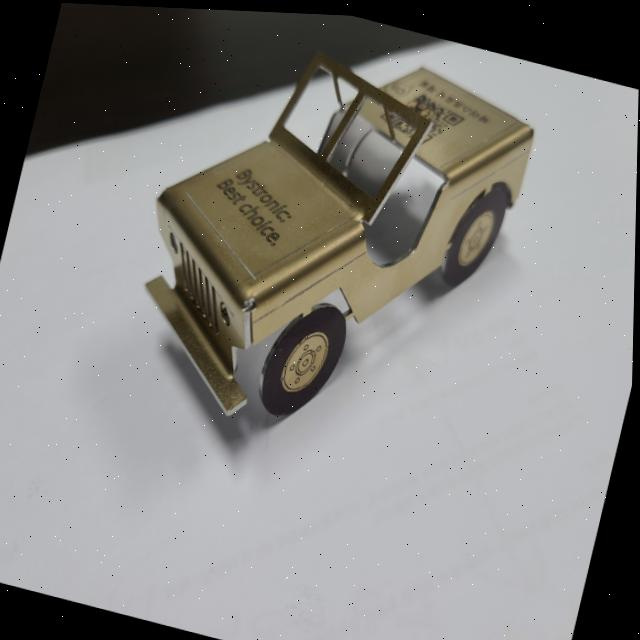tire: (255, 289, 354, 425), (440, 174, 511, 287)
